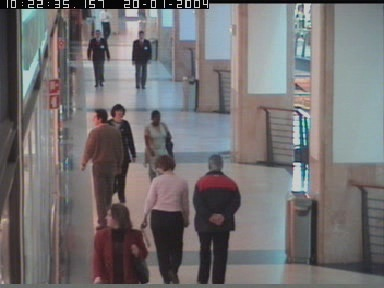person: (193, 155, 240, 285), (142, 158, 188, 283), (80, 109, 122, 226), (93, 202, 149, 284), (106, 104, 135, 204), (143, 110, 172, 184), (86, 29, 109, 87), (131, 30, 151, 88), (100, 9, 112, 39)
